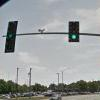Traffic light: (5, 15, 85, 57)
